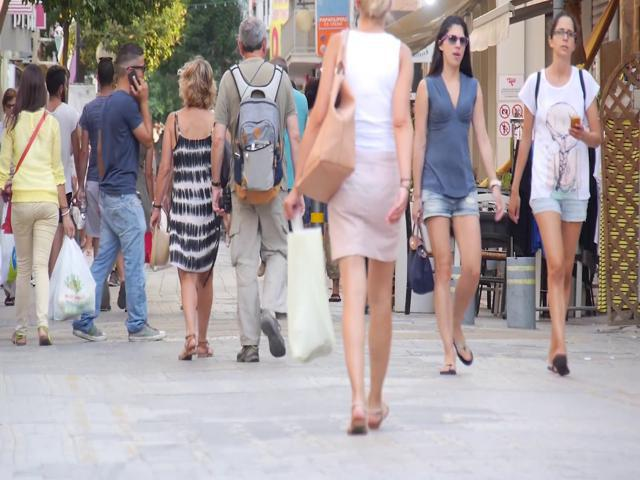shoe: (259, 314, 285, 356), (128, 324, 167, 343), (454, 329, 473, 365), (347, 402, 367, 434), (367, 402, 389, 429), (73, 325, 107, 341), (178, 338, 198, 361), (236, 346, 259, 362), (441, 352, 457, 375), (554, 352, 569, 376), (197, 339, 214, 356), (36, 327, 52, 345), (12, 333, 27, 345)
